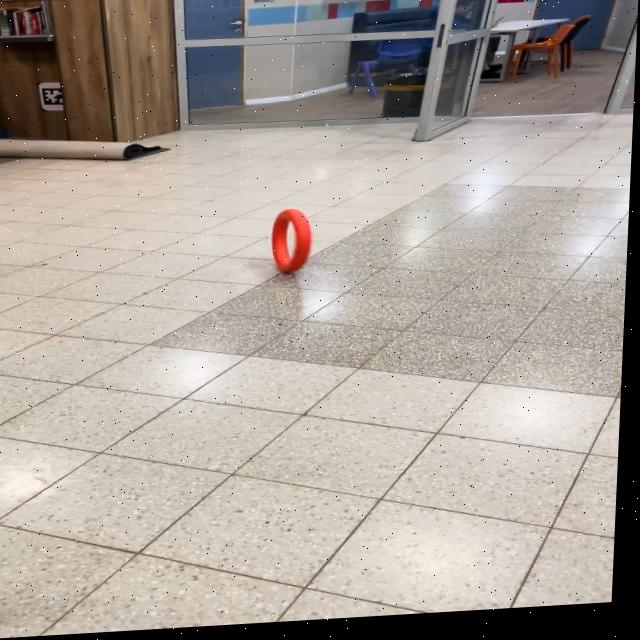note: (268, 210, 319, 279)
